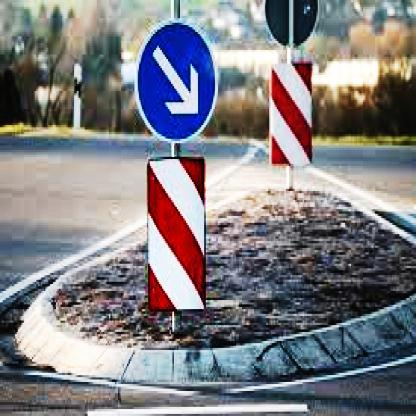Keep right: (135, 20, 218, 146)
